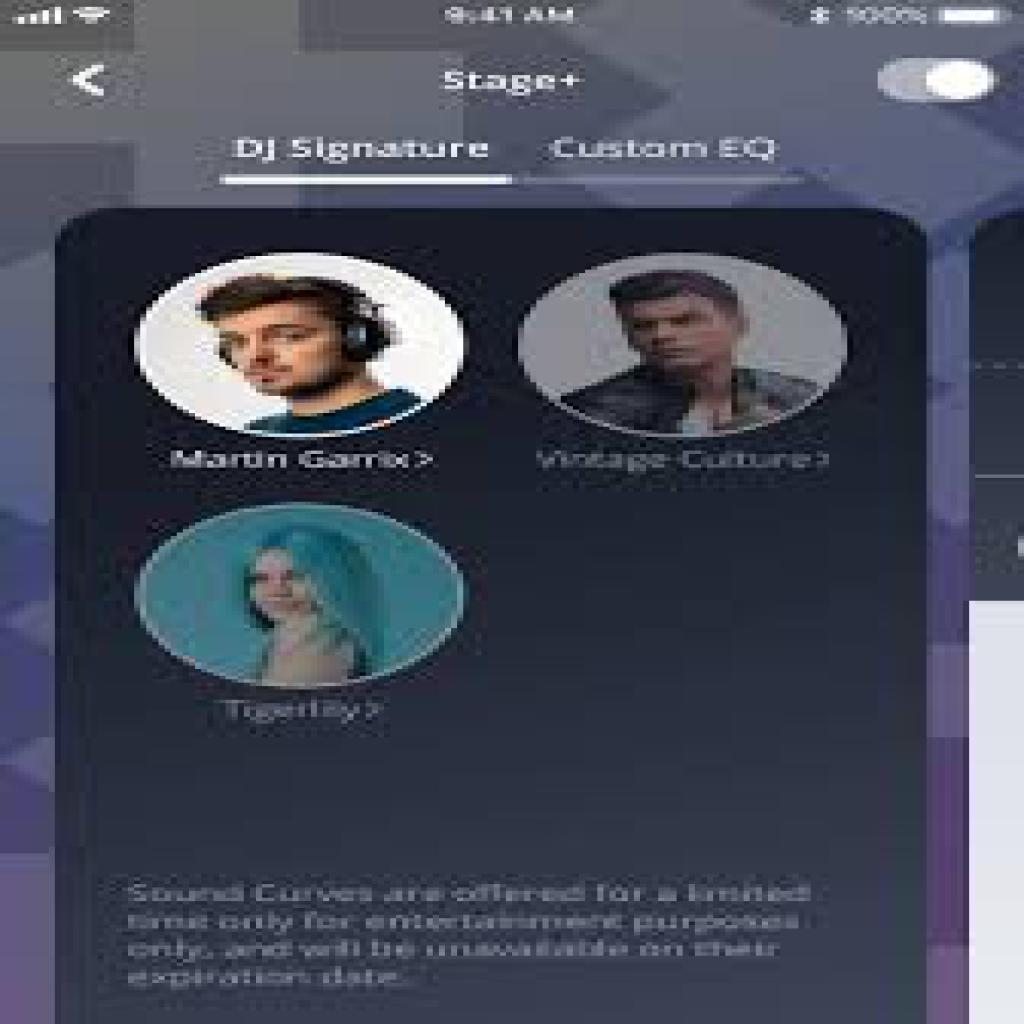icon: (70, 62, 110, 99)
label: (230, 132, 496, 165), (544, 134, 790, 169), (442, 65, 588, 98)
switch: (877, 56, 1001, 103)
